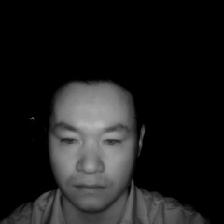normal: (38, 68, 148, 210)
